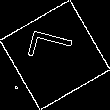L_E: (27, 34, 83, 76)
